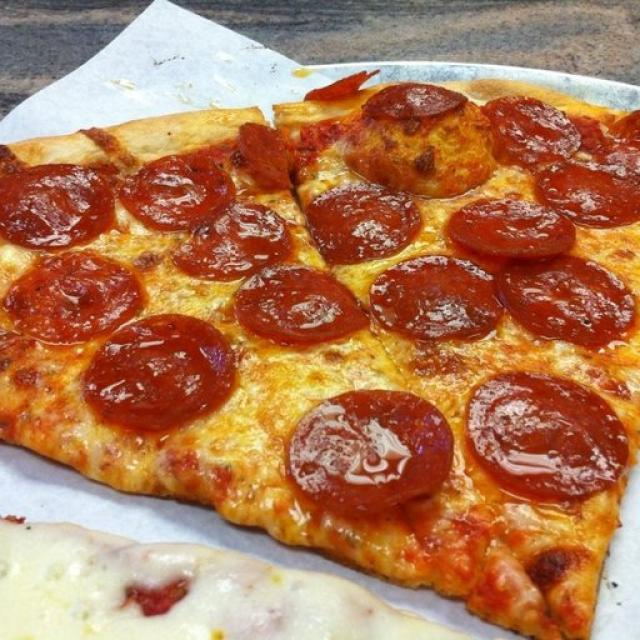Pepperoni: (471, 373, 624, 495), (293, 392, 444, 505), (106, 328, 221, 425), (504, 266, 638, 340), (19, 253, 140, 332), (0, 168, 113, 244), (246, 271, 366, 339), (313, 186, 418, 251), (399, 264, 489, 334), (128, 156, 233, 214), (463, 193, 571, 249), (204, 207, 284, 279), (486, 100, 577, 158), (553, 164, 637, 226), (377, 87, 459, 115), (308, 69, 374, 103)
Pizza: (2, 68, 640, 640)
